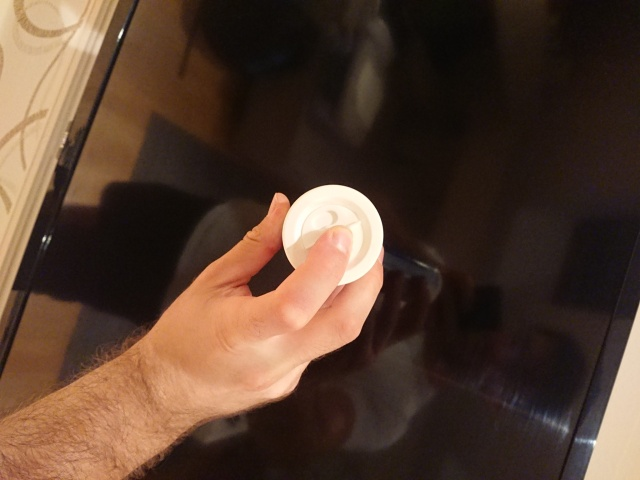Solana Pag Fine Sea Salt 250g: (277, 180, 388, 288)
